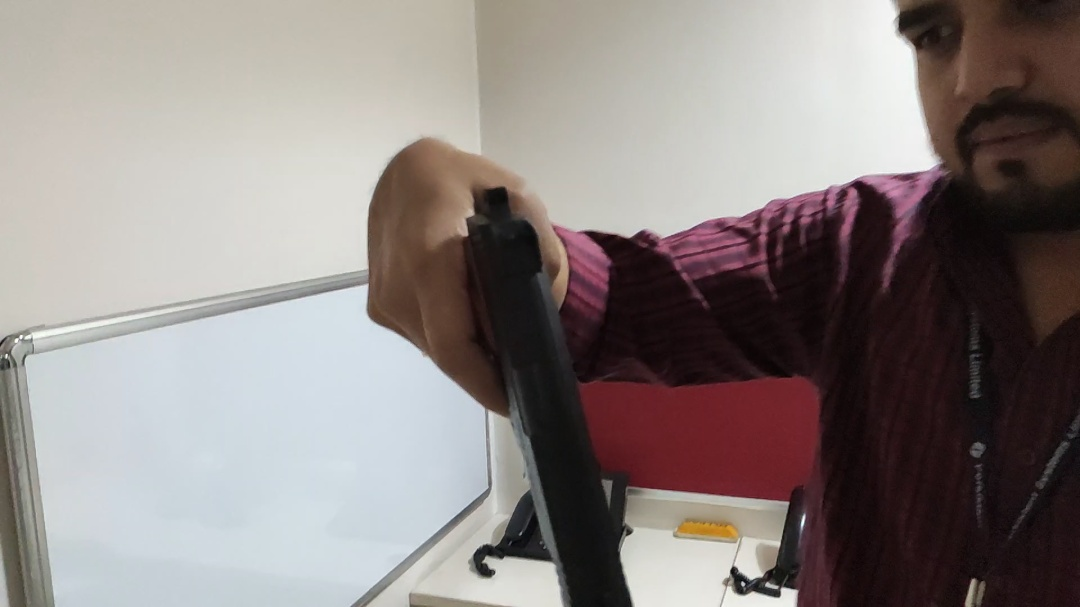gun: (433, 172, 662, 607)
